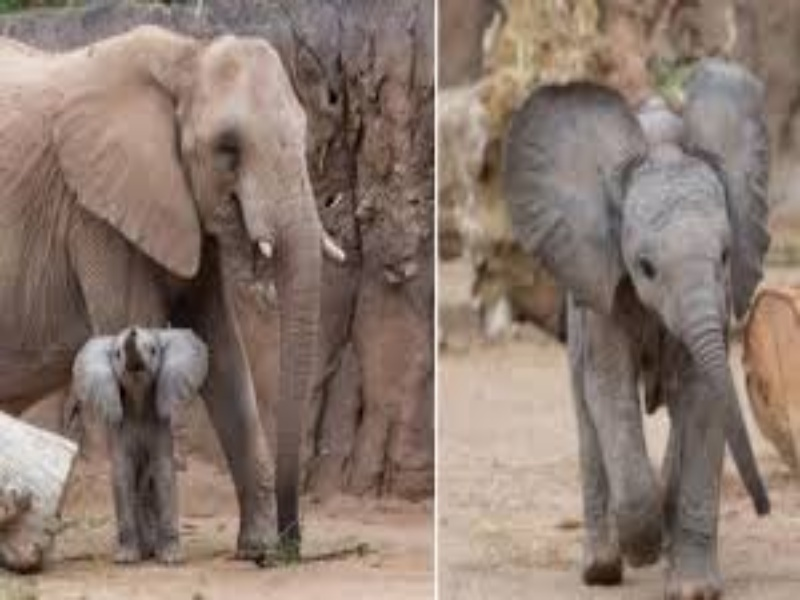elephant: (25, 36, 398, 578), (488, 46, 800, 594)
